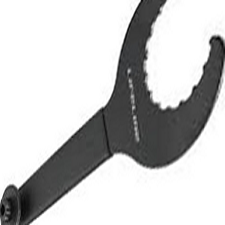wrench: (7, 1, 225, 217)
